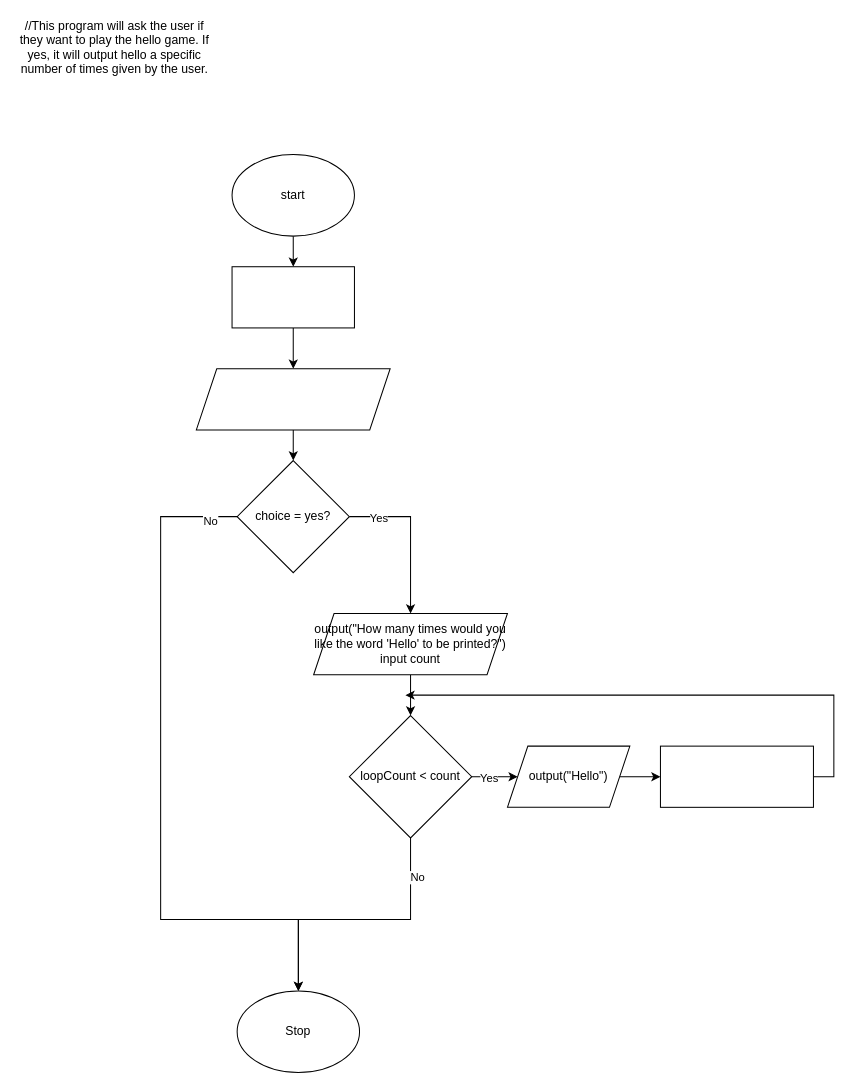
Some shapes in this 860 by 1090 pixel diagram are drawn without their labels. Here are the shapes that lost their labels. From the top down, the box of each, then its label:
(231, 266, 354, 328): declarations num count = 0 num loopCount string choice
(195, 368, 390, 430): output("Would you like to play the hello game?") input choice
(659, 745, 813, 807): loopCount=loopCount + 1
